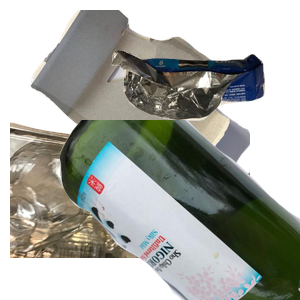glass: (60, 120, 300, 300)
paper: (28, 10, 268, 190)
plastic: (10, 120, 250, 300)
trash: (109, 47, 300, 160)
